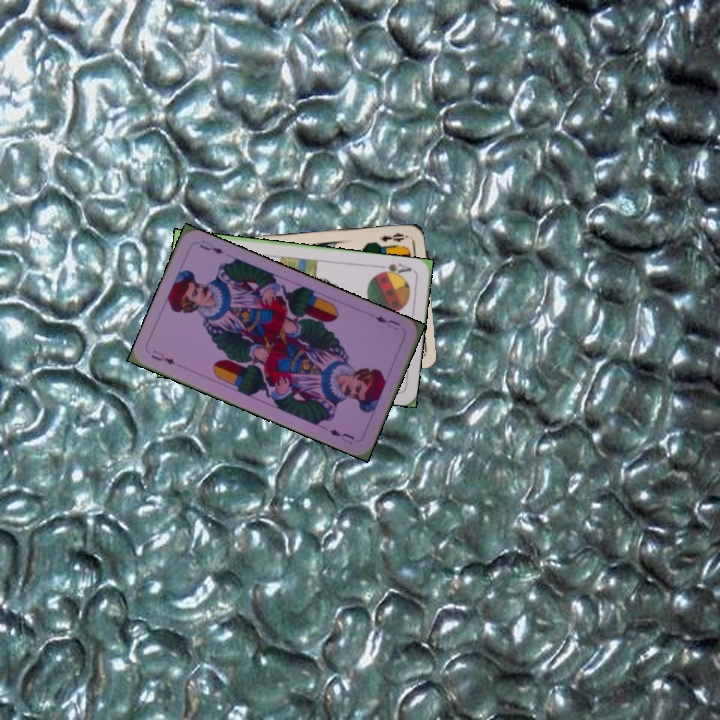EO: (375, 228, 411, 244)
EU: (371, 312, 403, 333), (147, 346, 177, 367)
SA: (374, 259, 414, 279)
